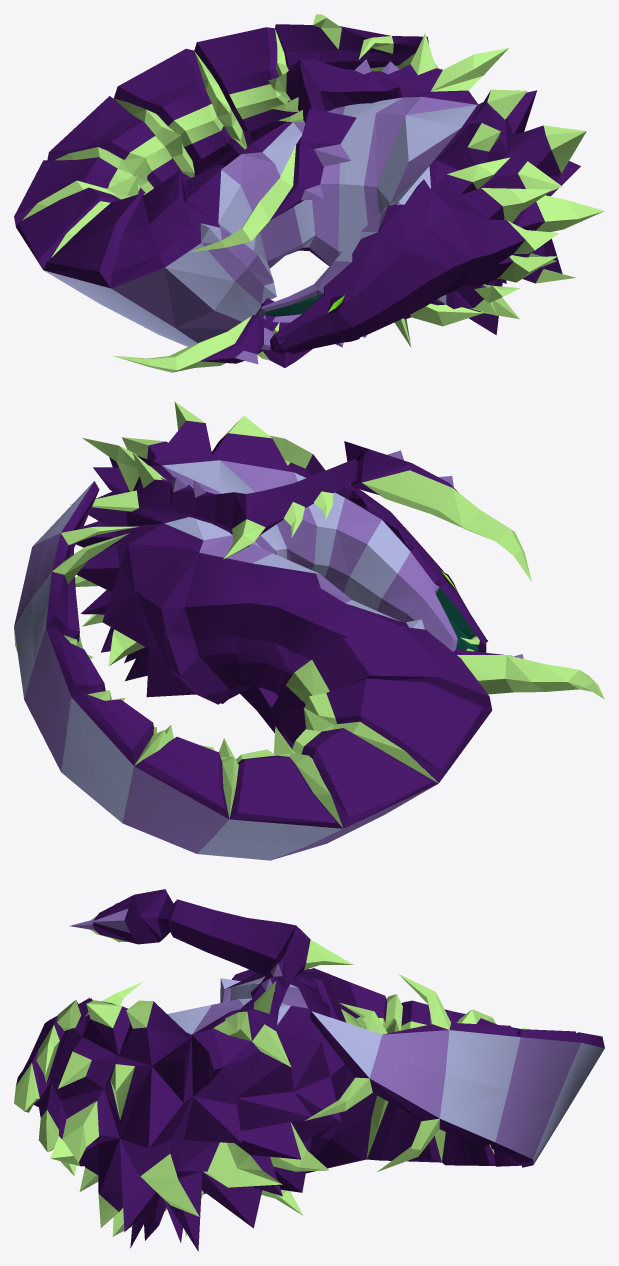
3 views of the same model, one above another, from view 1: azimuth 30°, elevation 25°; view 2: azimuth 150°, elevation 25°; view 3: azimuth 270°, elevation 25° (orthographic). The views are drawn at different scales.
Visible parts, largest first — view 1: Alien_Serpent; view 2: Alien_Serpent; view 3: Alien_Serpent.
Boxes of the visible parts, x1,y1,x2,y2 form: Alien_Serpent: [14, 14, 604, 372]; Alien_Serpent: [14, 401, 604, 860]; Alien_Serpent: [14, 889, 604, 1251].
Size of the model in its own units: 237 by 144 by 242.
1 material, 1 textured.
